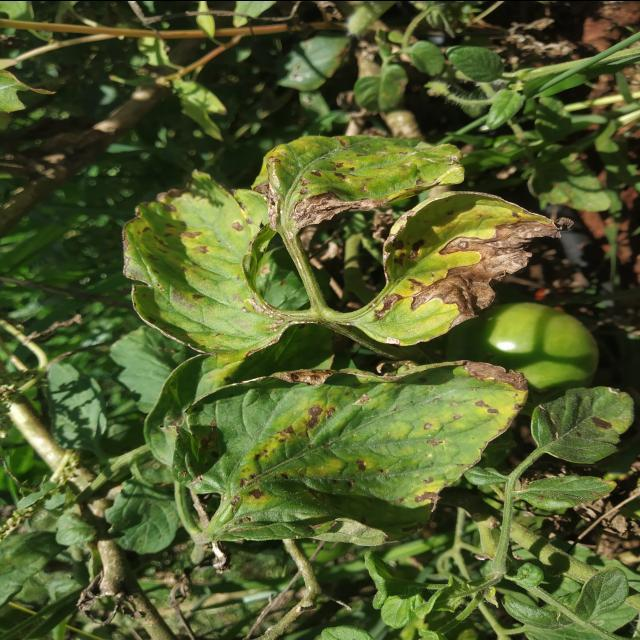Tomato mosaic virus leaf: (174, 360, 530, 548), (356, 188, 580, 344), (121, 180, 288, 358), (256, 133, 468, 233), (532, 392, 633, 463)
